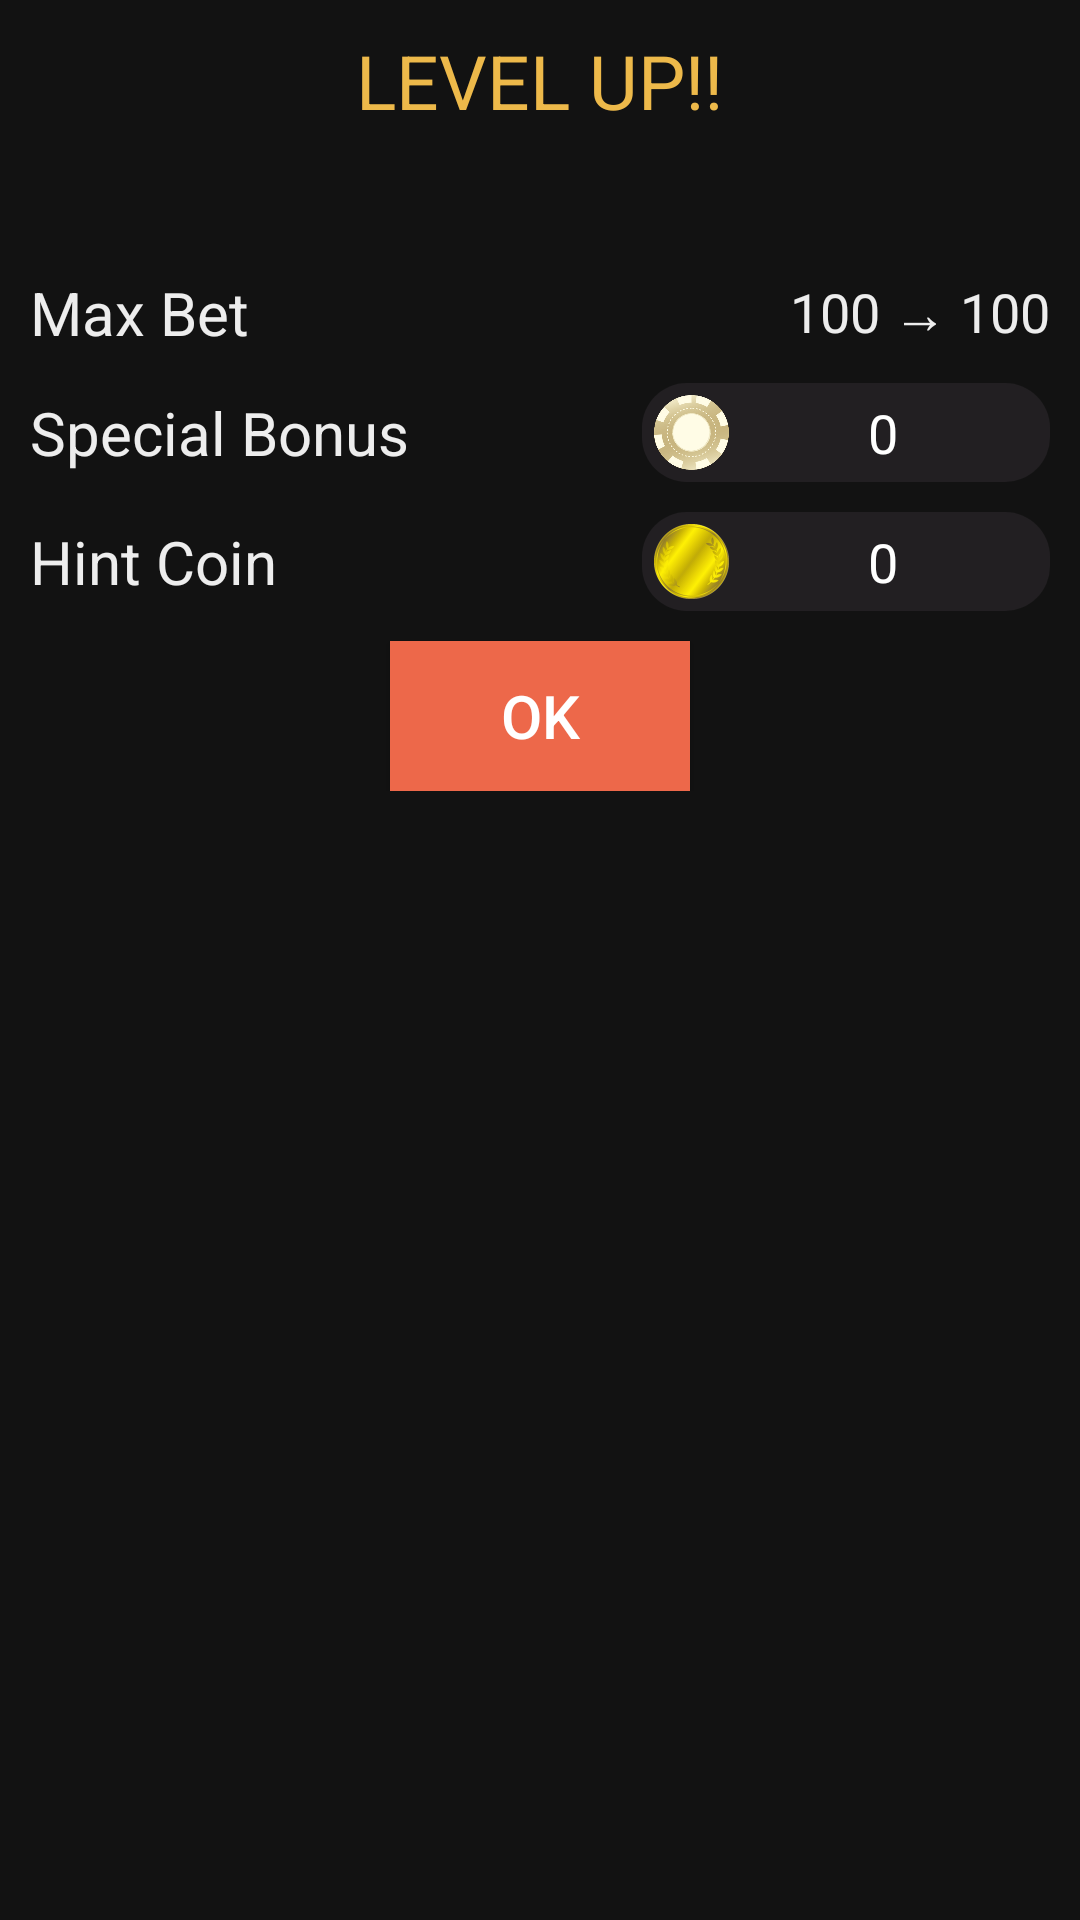

Icon click points for this 1080x1920 phone screenshot, format (x=x, y=y):
chip: (x=691, y=432)
